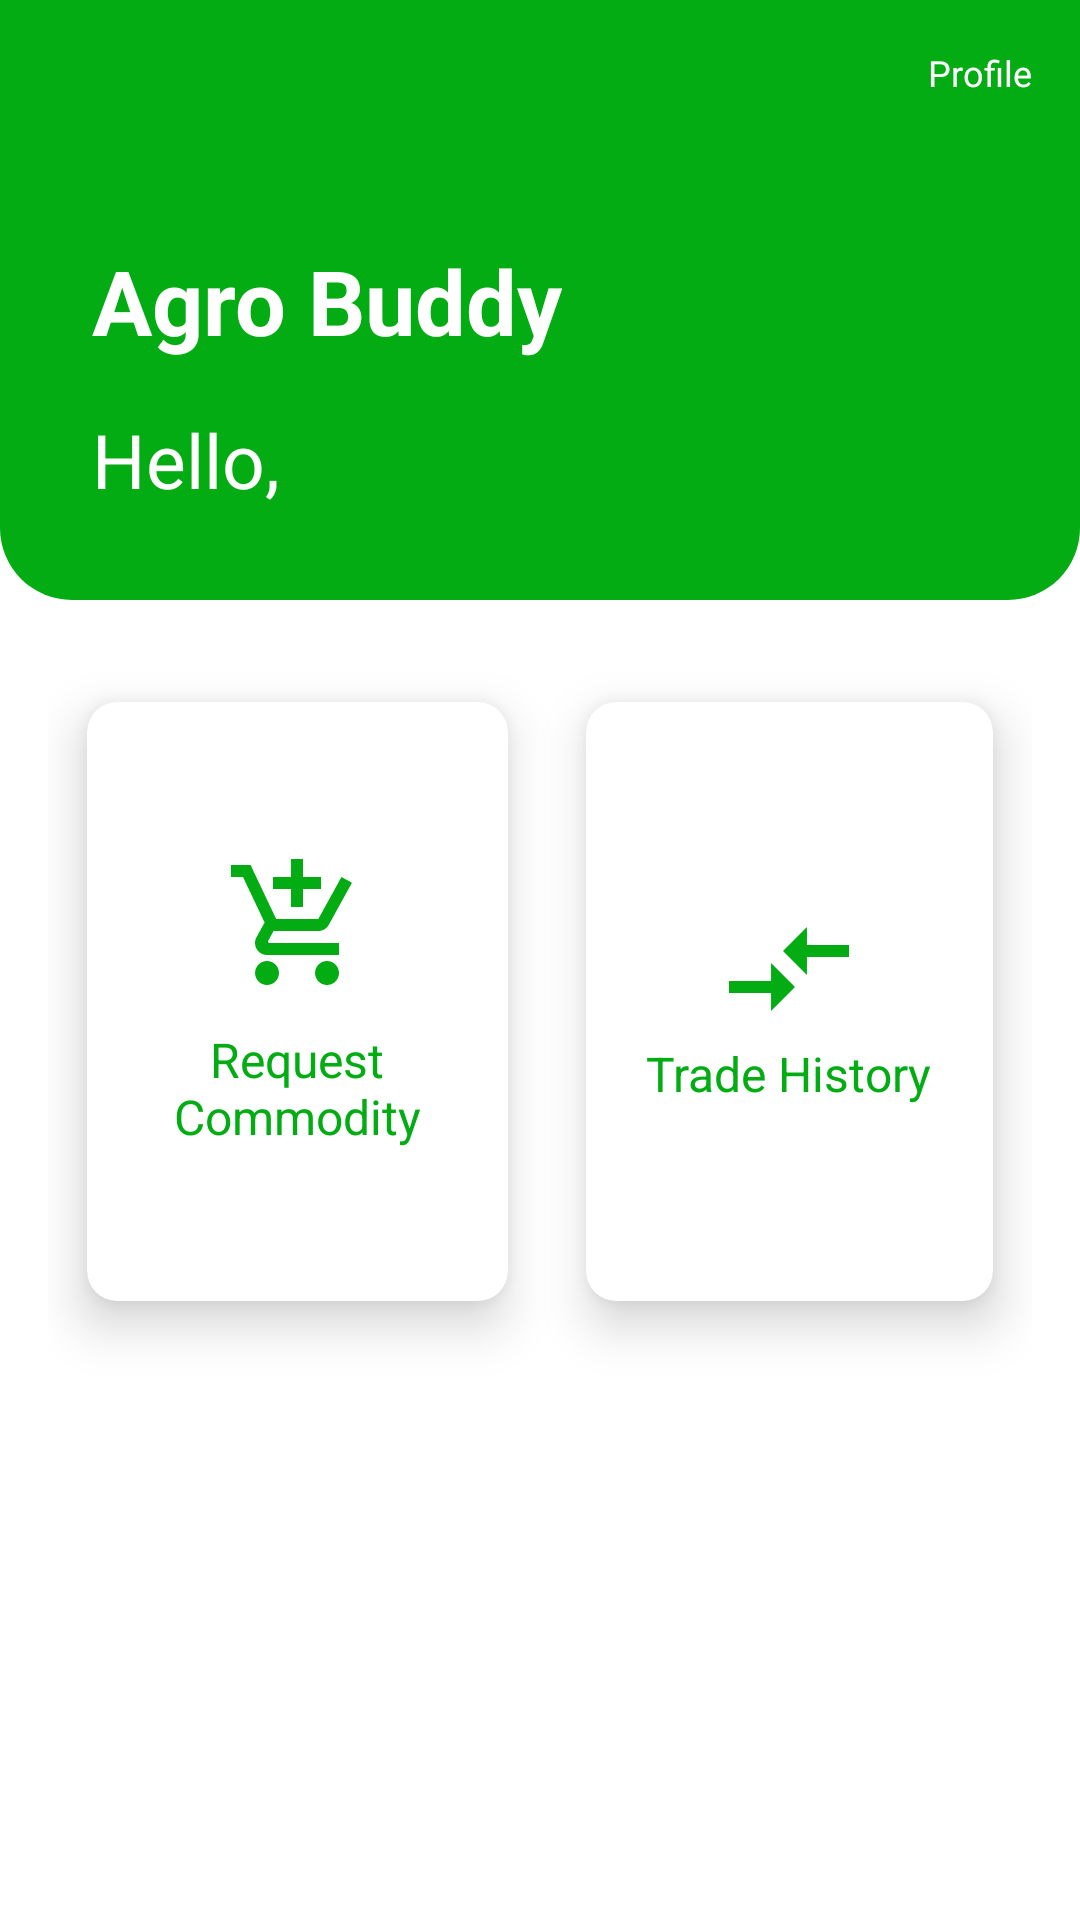

Where icons sit on this 1080w x 1920h app screen, as rect(x1, y1, x2, y2):
add shopping cart: rect(231, 859, 352, 985)
